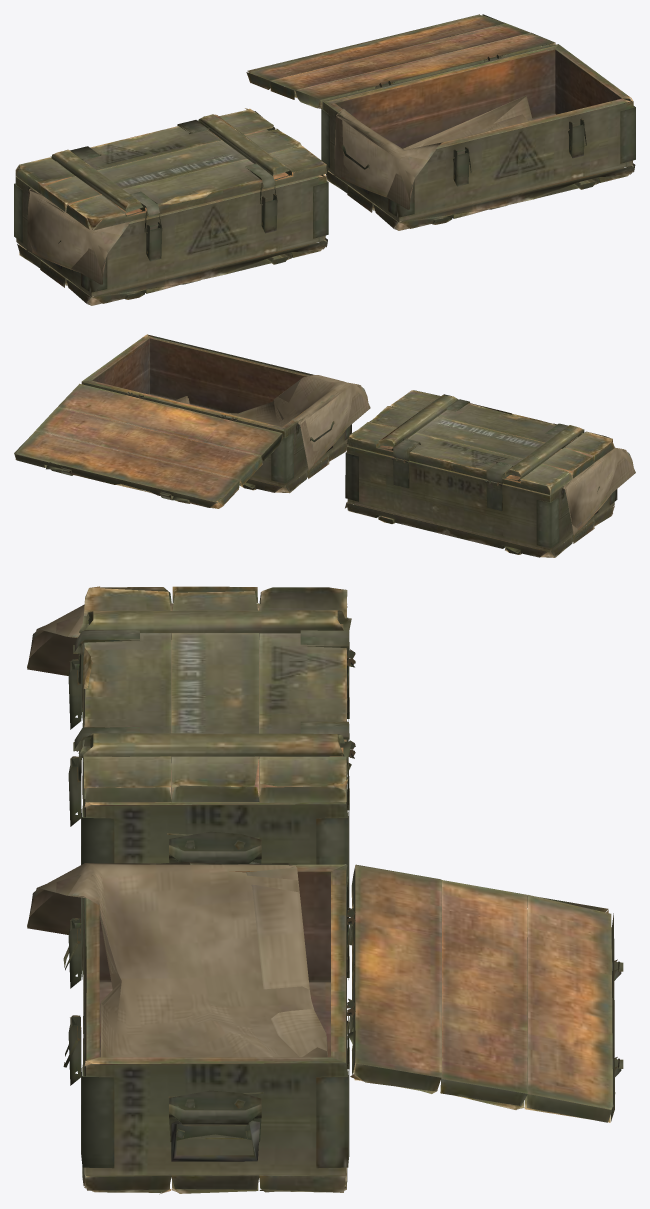
File: mil_crate.glb
3 views of the same model, one above another, from view 1: azimuth 30°, elevation 25°; view 2: azimuth 150°, elevation 25°; view 3: azimuth 270°, elevation 25° (orthographic). The views are drawn at different scales.
Parts seen in each view (by area): view 1: old_military_crate_lid_a; view 2: old_military_crate_lid_a; view 3: old_military_crate_lid_a.
Part boxes in pixels (x1=…): old_military_crate_lid_a: x1=14, y1=14, x2=635, y2=305; old_military_crate_lid_a: x1=14, y1=334, x2=635, y2=557; old_military_crate_lid_a: x1=27, y1=586, x2=623, y2=1194.
Size of the model in its own units: 1.81 by 0.3005 by 0.9735.
Materials: 1 (1 with a texture image).
